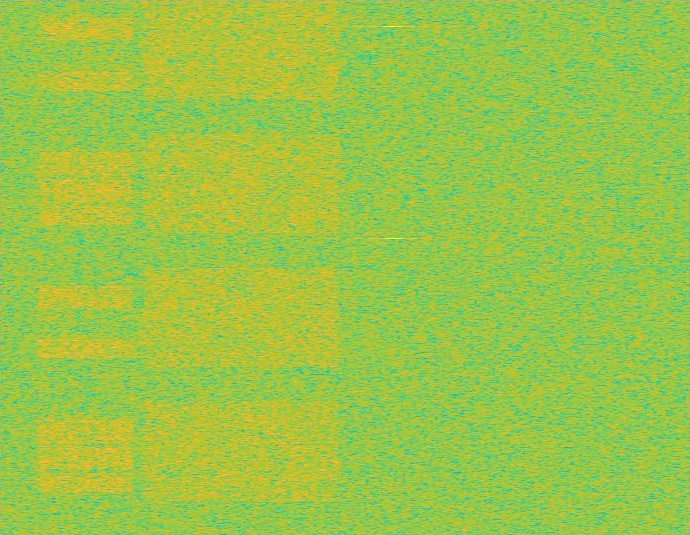5G: (138, 0, 345, 534)
LTE: (34, 0, 137, 534)
Radar: (386, 0, 400, 534)
